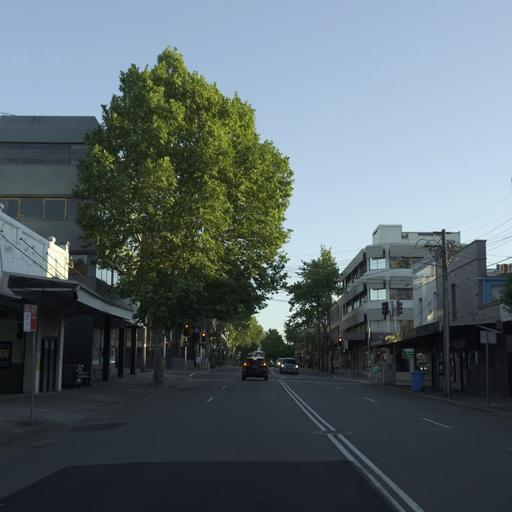Street light: (414, 234, 451, 396), (183, 322, 190, 336), (200, 329, 206, 342), (337, 335, 342, 347)
